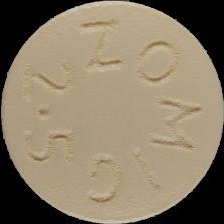64896-671: (0, 0, 224, 224)
